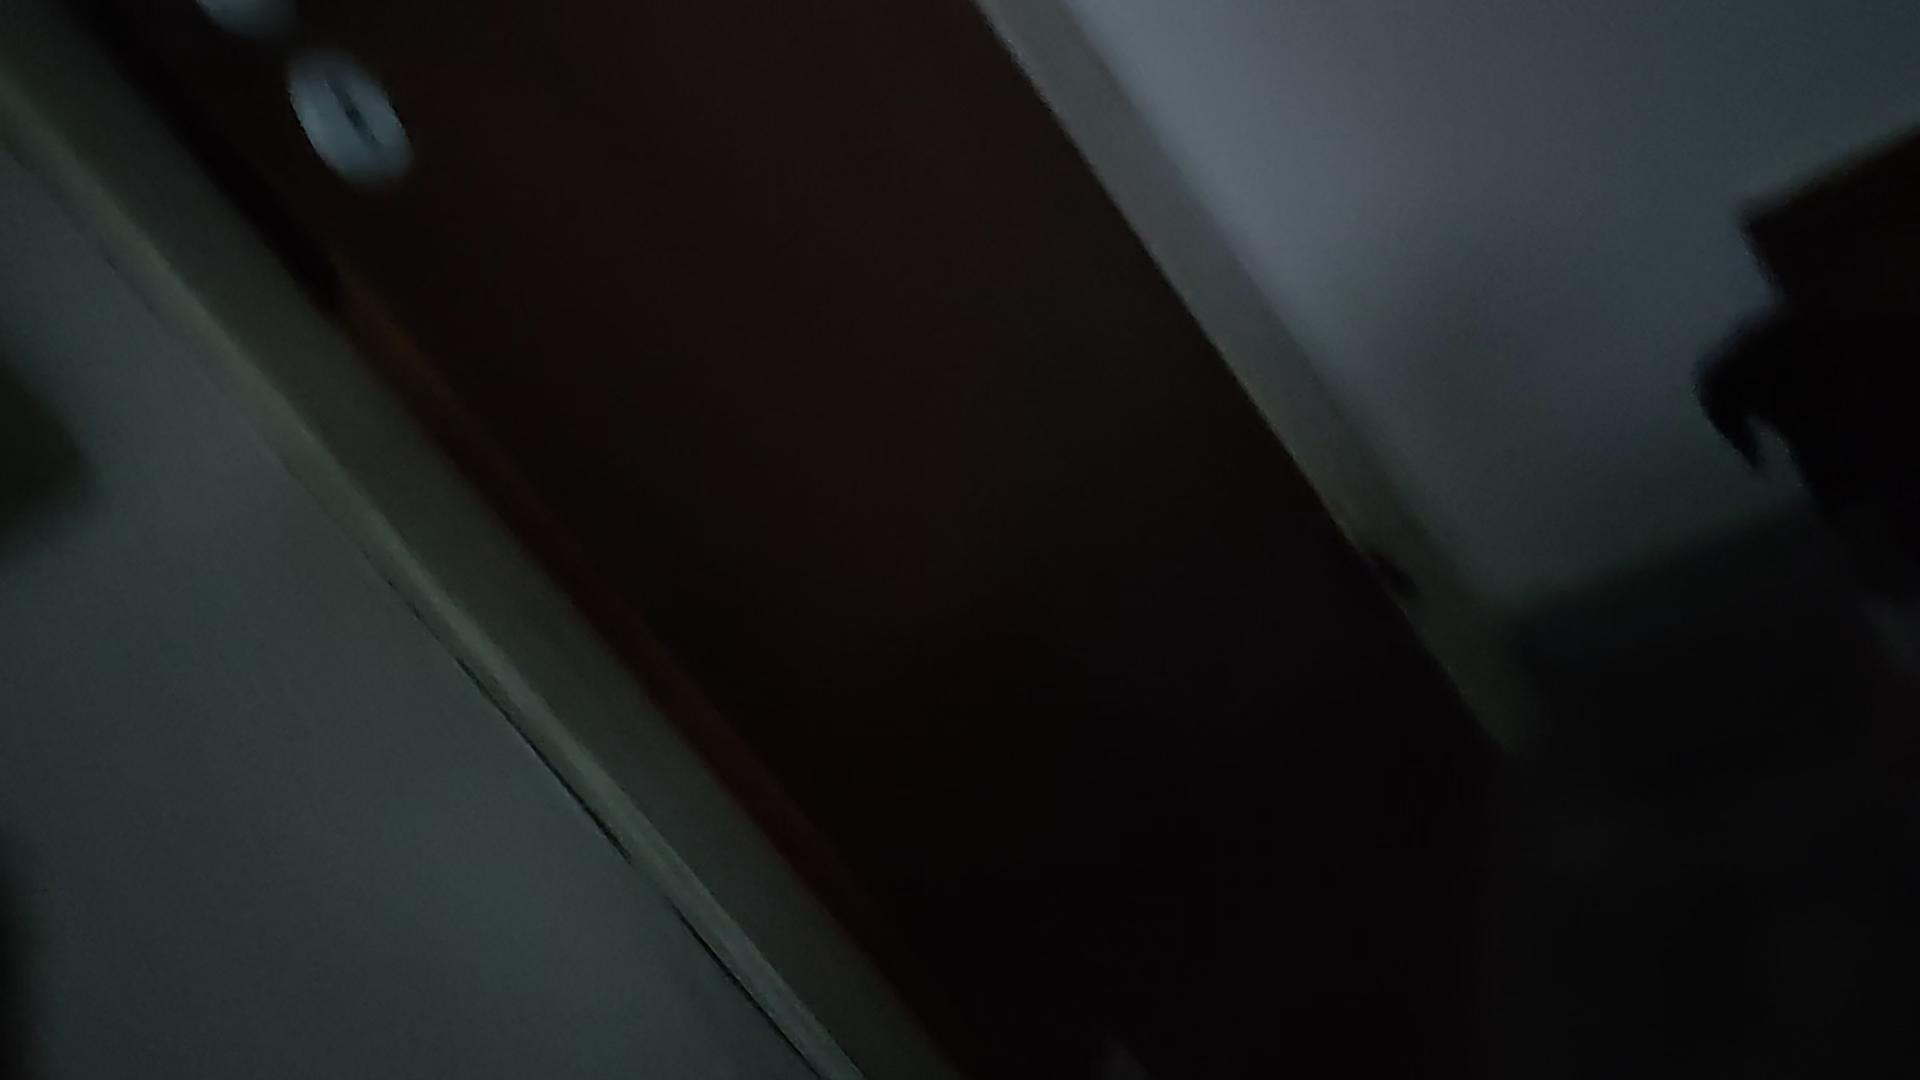Dog: (1681, 257, 1919, 622)
